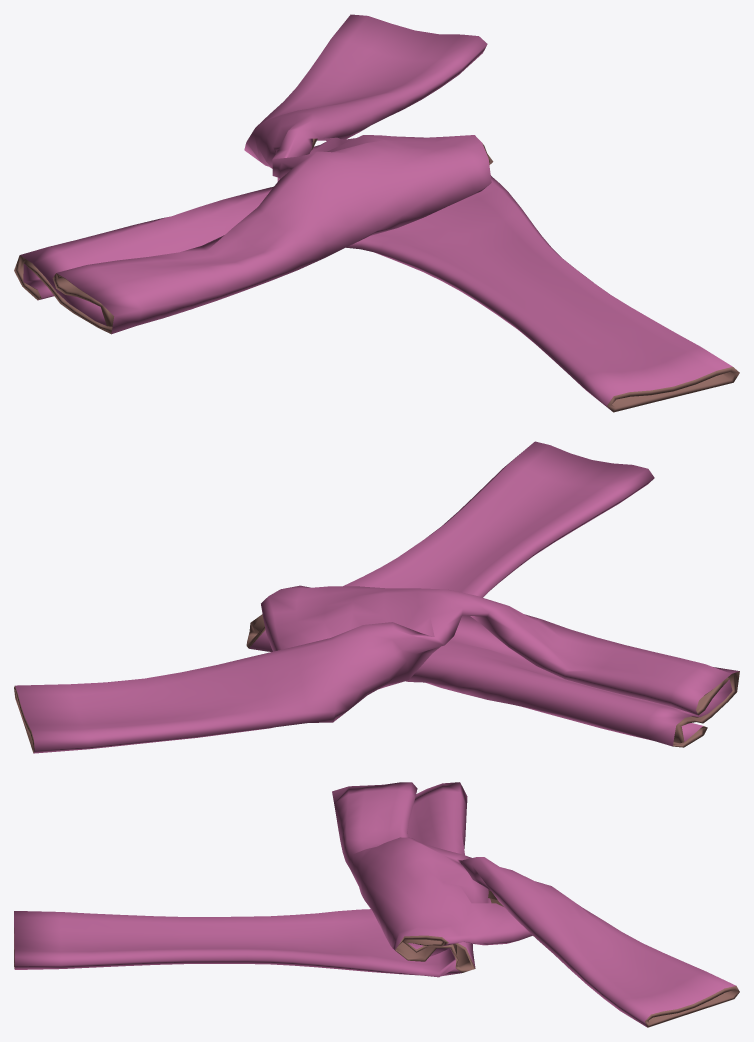
The model's file is SweaterPhysics.fbx.
The picture shows the model from 3 angles, top to bottom: view 1: azimuth 30°, elevation 25°; view 2: azimuth 150°, elevation 25°; view 3: azimuth 270°, elevation 25°; orthographic projection. The views are drawn at different scales.
Parts seen in each view (by area): view 1: Shirt.001; view 2: Shirt.001; view 3: Shirt.001.
Part boxes in pixels (<box>): Shirt.001: <box>14,14,739,412</box>; Shirt.001: <box>14,441,739,753</box>; Shirt.001: <box>14,782,739,1027</box>.
Size of the model in its own units: 1154 by 154 by 1555.
Materials: 1 (1 with a texture image).
